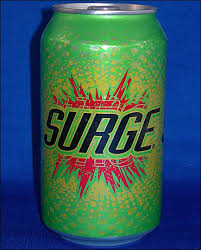can: (32, 1, 169, 248)
